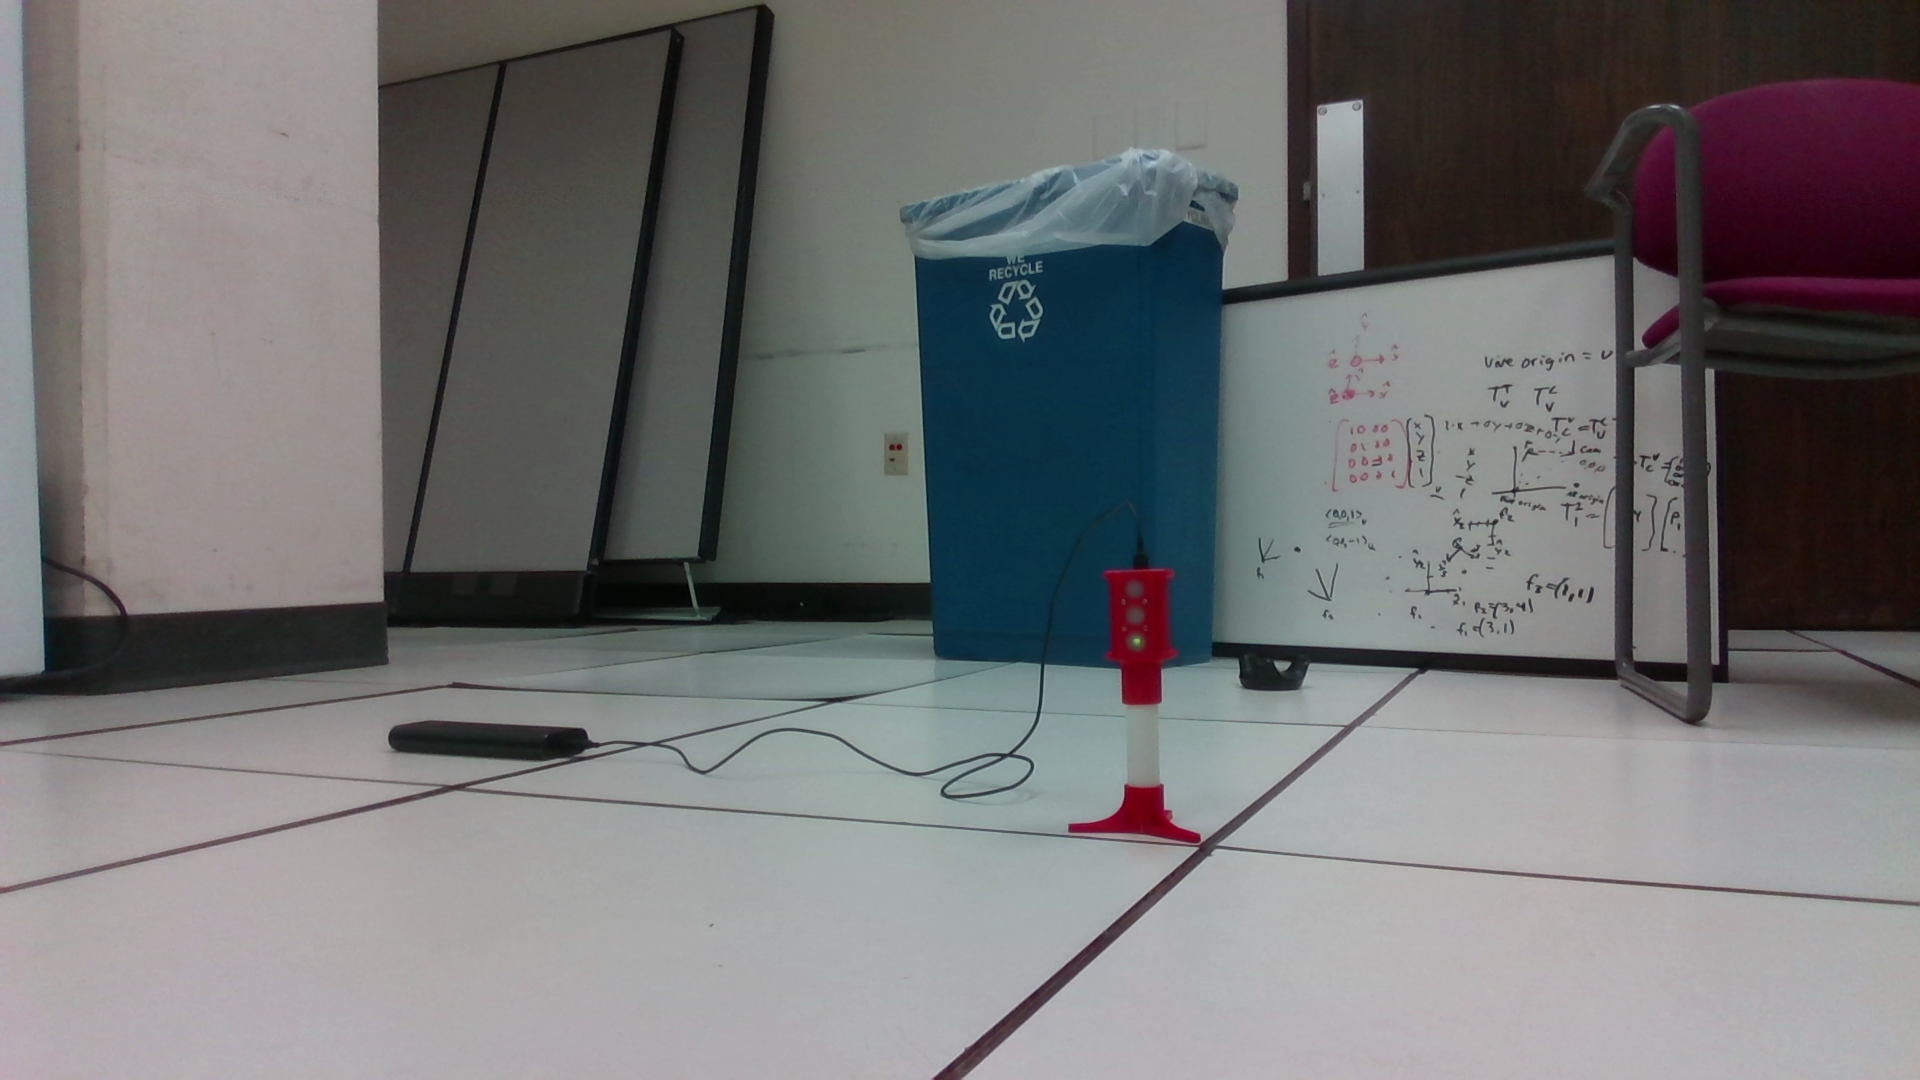stoplight: (1108, 567, 1178, 708)
